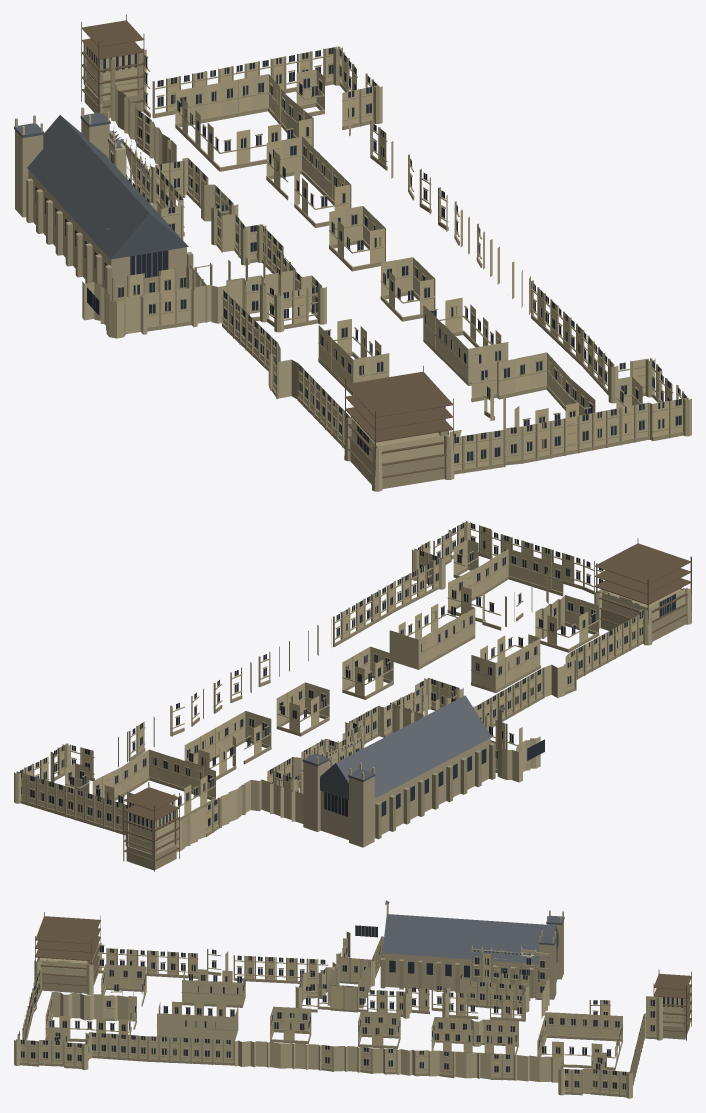
File: westminster-site-b60.glb
The picture shows the model from 3 angles, top to bottom: view 1: azimuth 30°, elevation 25°; view 2: azimuth 150°, elevation 25°; view 3: azimuth 270°, elevation 25°; orthographic projection. The views are drawn at different scales.
Bounding box in the file's own units: 151 × 29.48 × 292.
